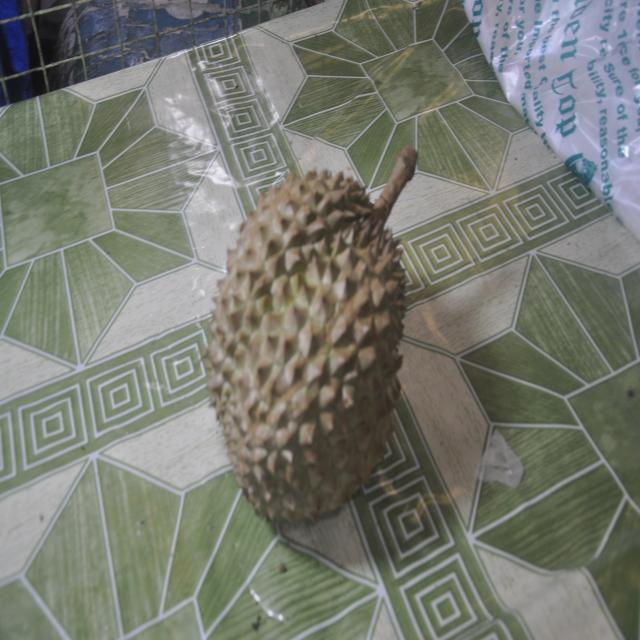mature: (208, 147, 417, 520)
